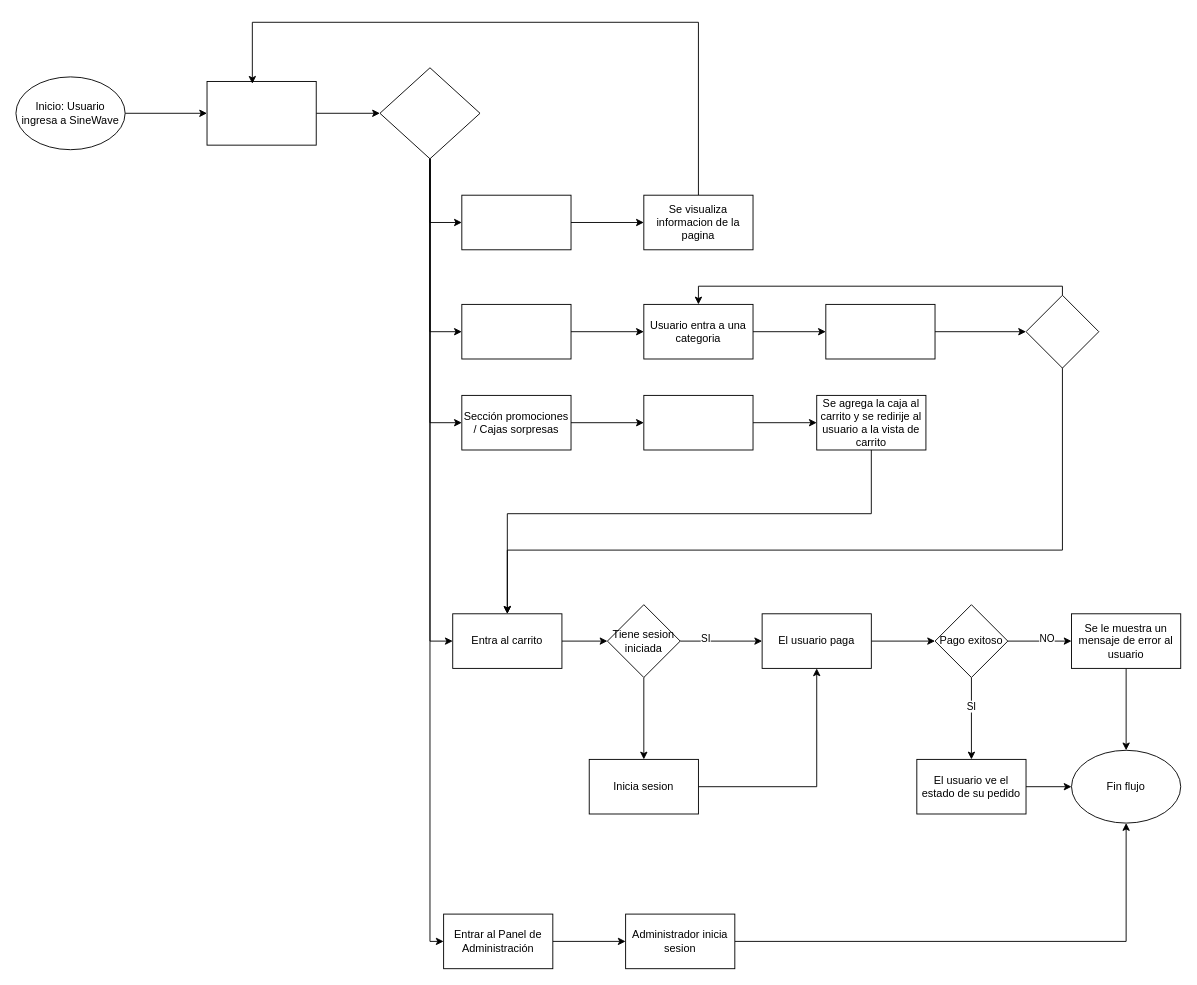
Image size: 1197x985. Some labels were removed from this diagram. The shapes that lost their labels are listed below. From the top down, each one's box as (x1, y1, x2, y2) in pixels, then its label:
(206, 81, 316, 145): Cargar pantalla principal
(379, 67, 480, 159): ¿Qué ruta de navegación prefiere?
(461, 194, 571, 250): Términos, Nosotros
(461, 303, 571, 359): Nuestras Categorías/ Catálogo
(825, 303, 935, 359): Usuario agrega algo a su carrito
(1025, 294, 1099, 368): Desea pagar?
(643, 394, 753, 450): El usuario agrega una caja sorpresa
